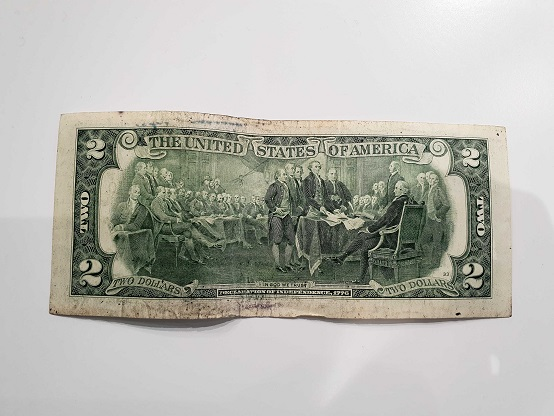2dollar: (50, 109, 514, 321)
